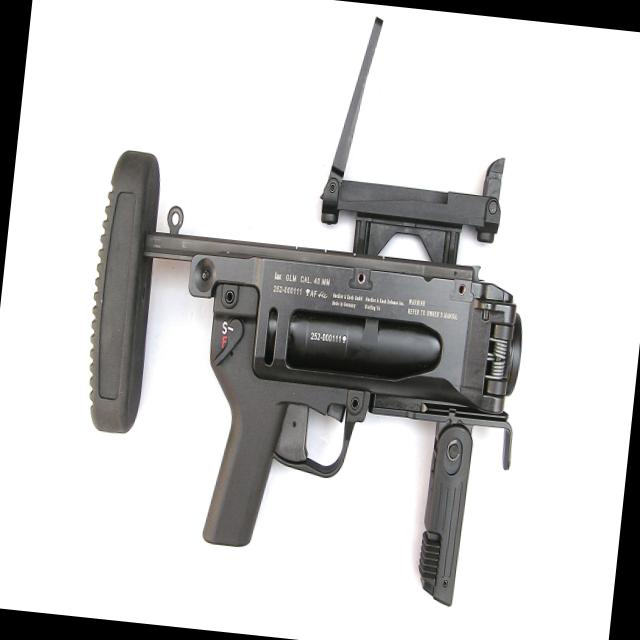Weapon: (61, 117, 544, 632)
